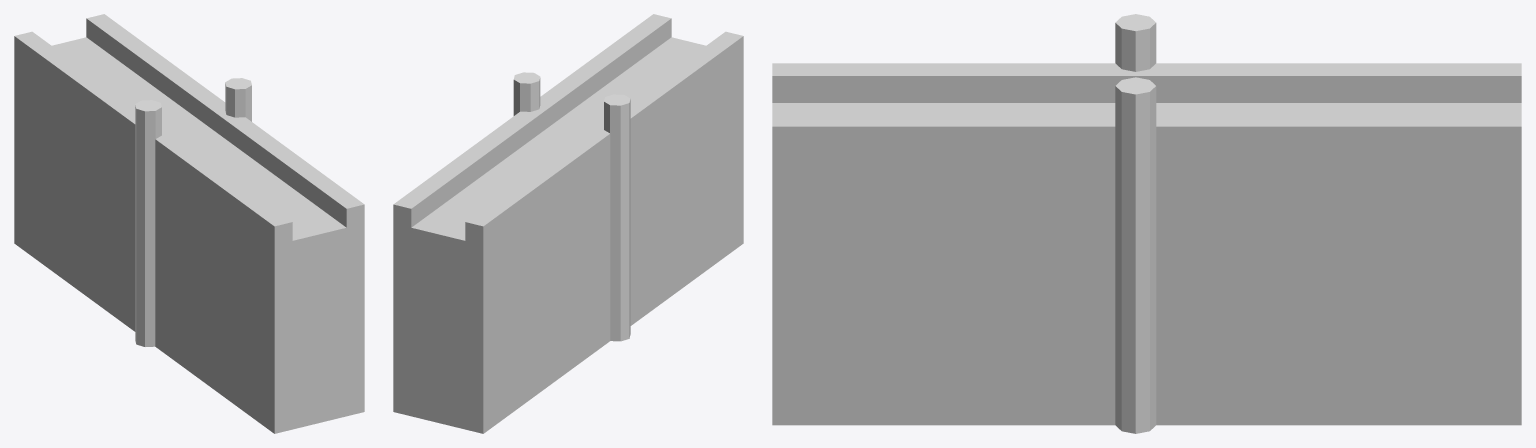
Rendered from wall.fbx.
The picture shows the model from 3 angles, left to right: view 1: azimuth 30°, elevation 25°; view 2: azimuth 150°, elevation 25°; view 3: azimuth 270°, elevation 25°; orthographic projection. The views are drawn at different scales.
Visible parts, largest first — view 1: Wall, Cube, Cube.001; view 2: Wall, Cube, Cube.001; view 3: Wall, Cube.001, Cube.
Boxes of the visible parts, box(x1,y1,x2,y2) form: Wall: box(14, 14, 364, 433); Cube: box(135, 100, 161, 346); Cube.001: box(225, 78, 251, 121); Wall: box(393, 14, 743, 433); Cube: box(604, 94, 630, 341); Cube.001: box(513, 72, 540, 115); Wall: box(772, 63, 1521, 425); Cube.001: box(1115, 77, 1156, 433); Cube: box(1115, 14, 1156, 71).
Size of the model in its own units: 2036 by 4000 by 8000.
